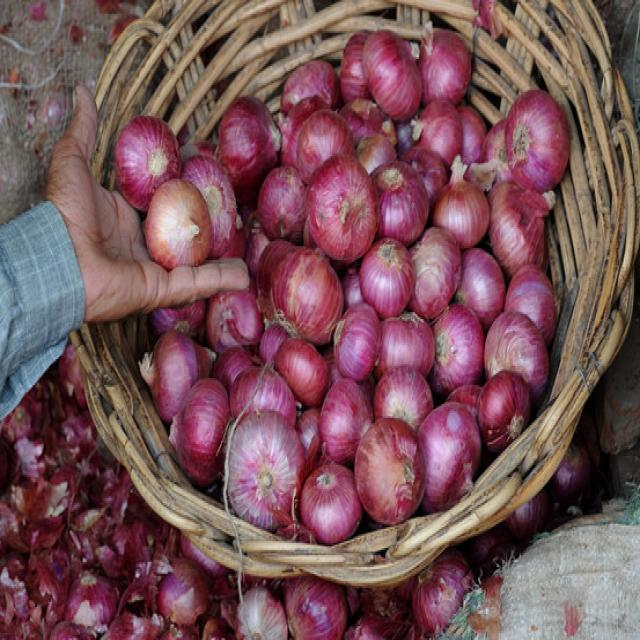Onion: (271, 136, 463, 419), (300, 154, 373, 272), (410, 397, 480, 520), (354, 410, 428, 525), (226, 420, 302, 530), (162, 377, 232, 495), (474, 308, 550, 404), (107, 113, 181, 210), (146, 182, 217, 281), (484, 175, 554, 271), (273, 246, 342, 340), (225, 91, 283, 198), (397, 225, 466, 313), (147, 326, 213, 417), (504, 97, 572, 185), (361, 29, 427, 119), (430, 154, 491, 248), (434, 298, 483, 398), (298, 463, 357, 543), (322, 376, 376, 462), (376, 302, 436, 379), (200, 280, 264, 351), (416, 25, 472, 105), (365, 156, 426, 229), (273, 331, 337, 400), (478, 365, 533, 445), (330, 299, 378, 379), (365, 238, 413, 311), (412, 106, 460, 174)
